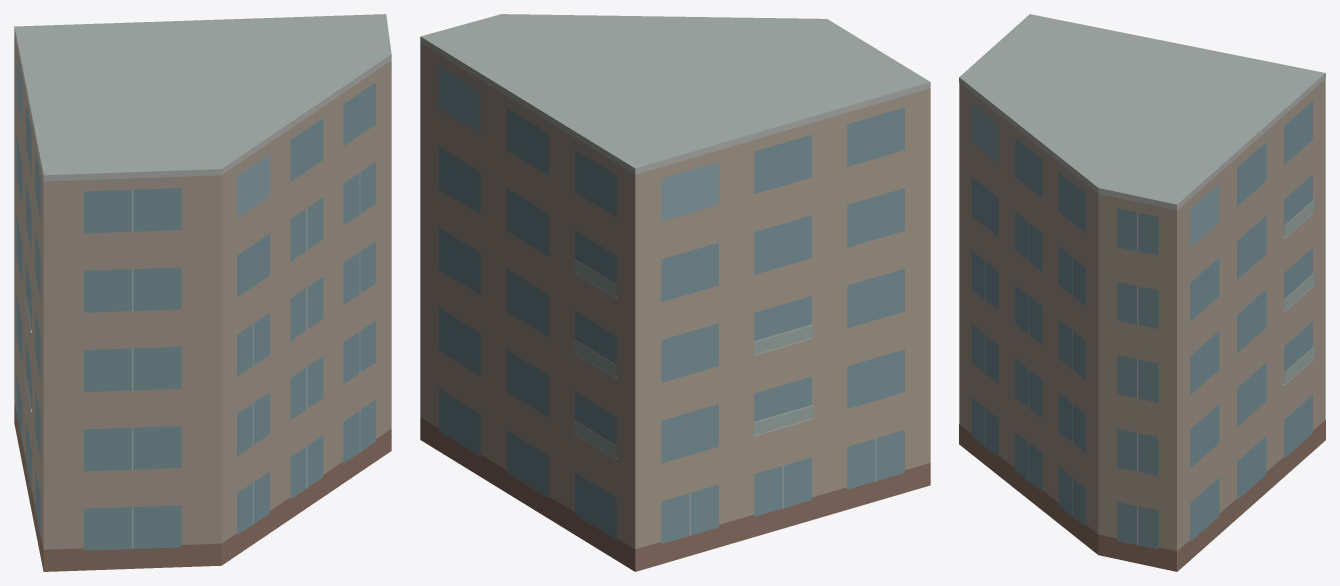
Rendered from survey-upis-32526155.glb.
The picture shows the model from 3 angles, left to right: view 1: azimuth 30°, elevation 25°; view 2: azimuth 150°, elevation 25°; view 3: azimuth 270°, elevation 25°; orthographic projection. The views are drawn at different scales.
Parts seen in each view (by area): view 1: survey-upis-32526155.tmp; view 2: survey-upis-32526155.tmp; view 3: survey-upis-32526155.tmp.
Boxes of the visible parts, <box> form: survey-upis-32526155.tmp: <box>14,14,391,571</box>; survey-upis-32526155.tmp: <box>420,14,930,571</box>; survey-upis-32526155.tmp: <box>959,14,1325,571</box>.
Bounding box in the file's own units: 17.39 × 15.6 × 14.12.
